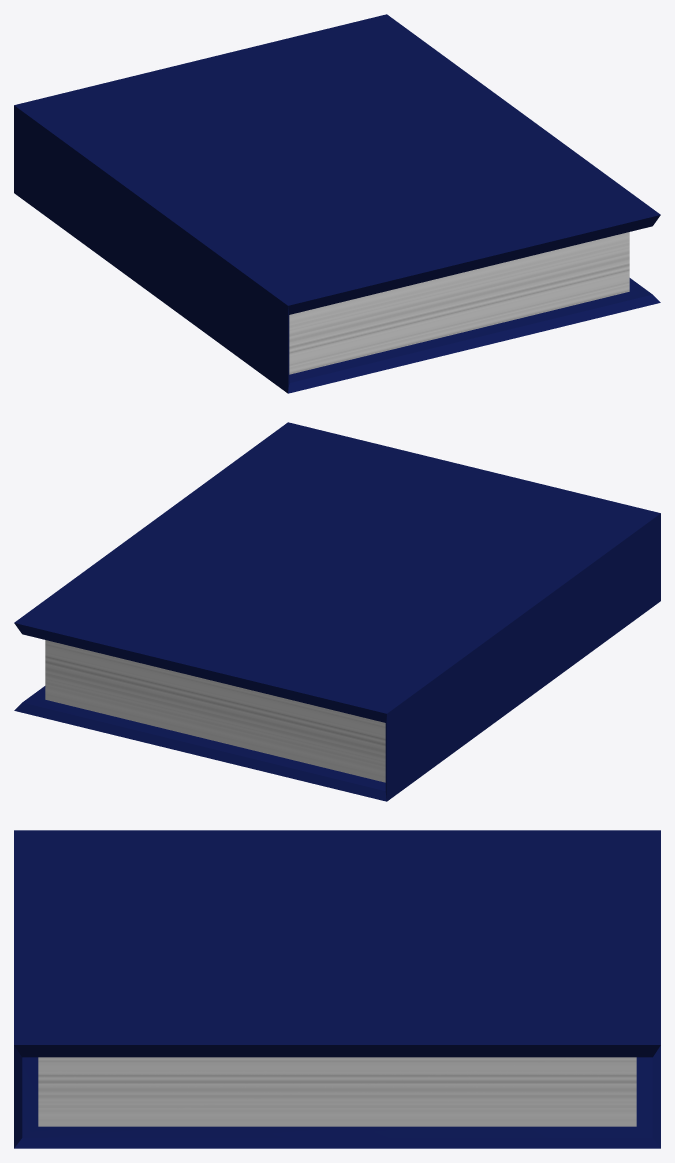
The model's file is Biblioteca_LibroGenerico_006.fbx.
The picture shows the model from 3 angles, top to bottom: view 1: azimuth 30°, elevation 25°; view 2: azimuth 150°, elevation 25°; view 3: azimuth 270°, elevation 25°; orthographic projection. The views are drawn at different scales.
Parts seen in each view (by area): view 1: Biblioteca_LibroGenerico.006; view 2: Biblioteca_LibroGenerico.006; view 3: Biblioteca_LibroGenerico.006.
Part boxes in pixels (x1,y1,x2,y2): Biblioteca_LibroGenerico.006: (14, 14, 660, 393); Biblioteca_LibroGenerico.006: (14, 422, 660, 801); Biblioteca_LibroGenerico.006: (14, 830, 660, 1148).
Bounding box in the file's own units: 24.19 × 5.45 × 30.79.
